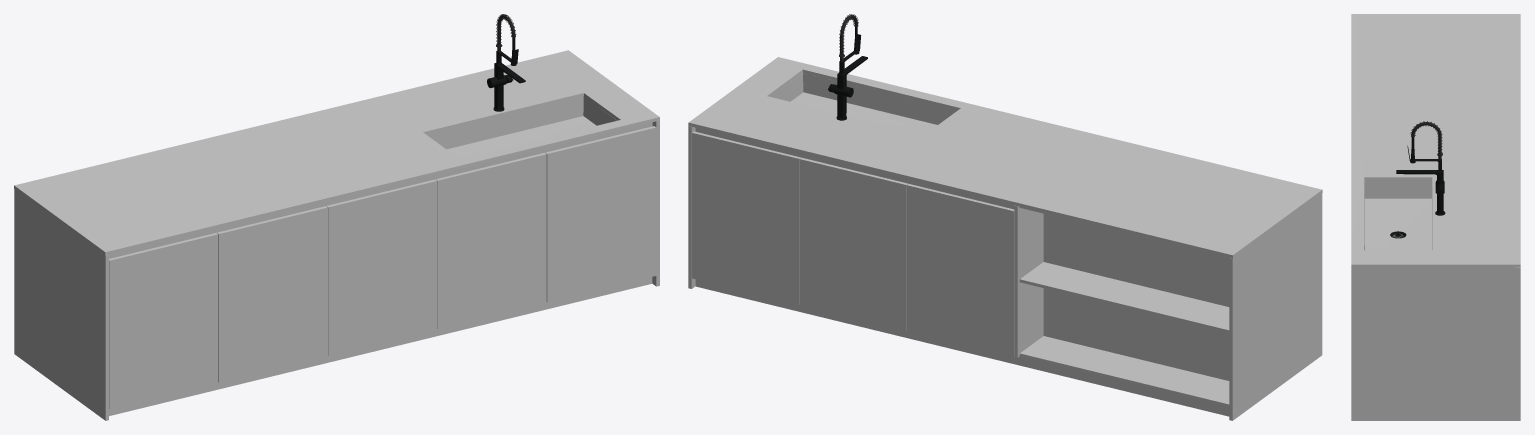
Rendered from Bench.FBX.
The picture shows the model from 3 angles, left to right: view 1: azimuth 30°, elevation 25°; view 2: azimuth 150°, elevation 25°; view 3: azimuth 270°, elevation 25°; orthographic projection. The views are drawn at different scales.
Parts seen in each view (by area): view 1: Bench; view 2: Bench; view 3: Bench.
Part boxes in pixels (x1,y1,x2,y2): Bench: (14,14,659,420); Bench: (688,14,1322,420); Bench: (1351,14,1520,420).
Size of the model in its own units: 11.08 by 5.13 by 3.16.
